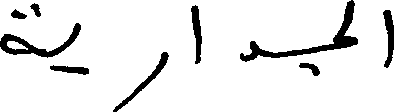ا: (189, 2, 201, 63), (382, 7, 393, 68)
ة: (0, 0, 33, 54)
ج: (295, 34, 357, 77)
د: (239, 38, 257, 62)
ر: (113, 49, 168, 110)
ل: (331, 0, 359, 33)
ي: (67, 20, 79, 74)
